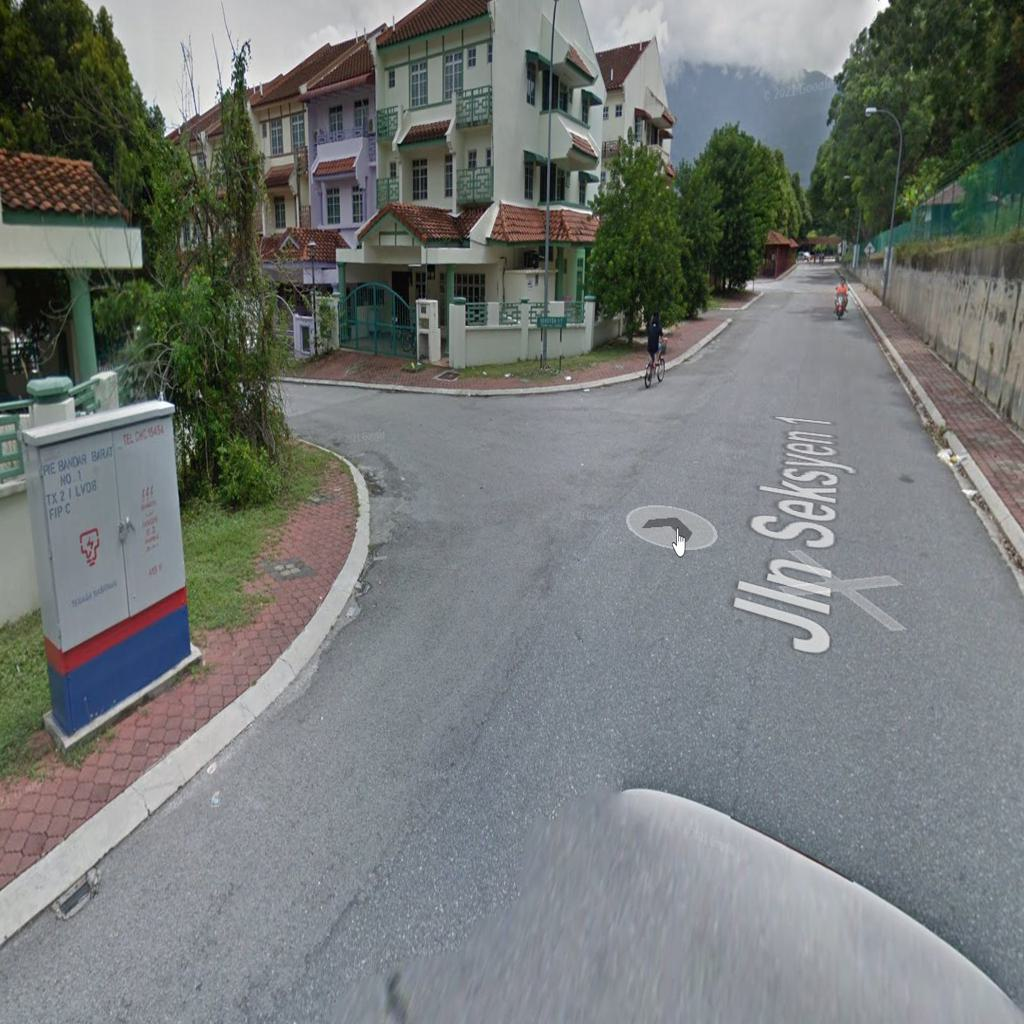Junction: (293, 368, 702, 632)
